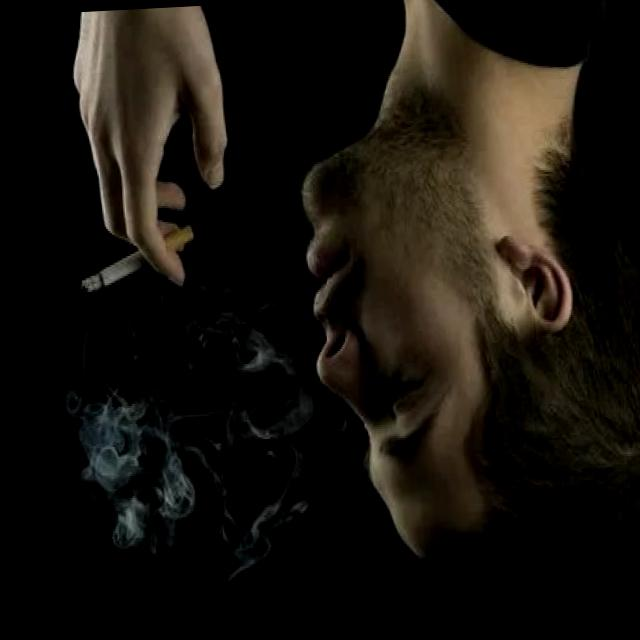smoke: (74, 220, 201, 298)
